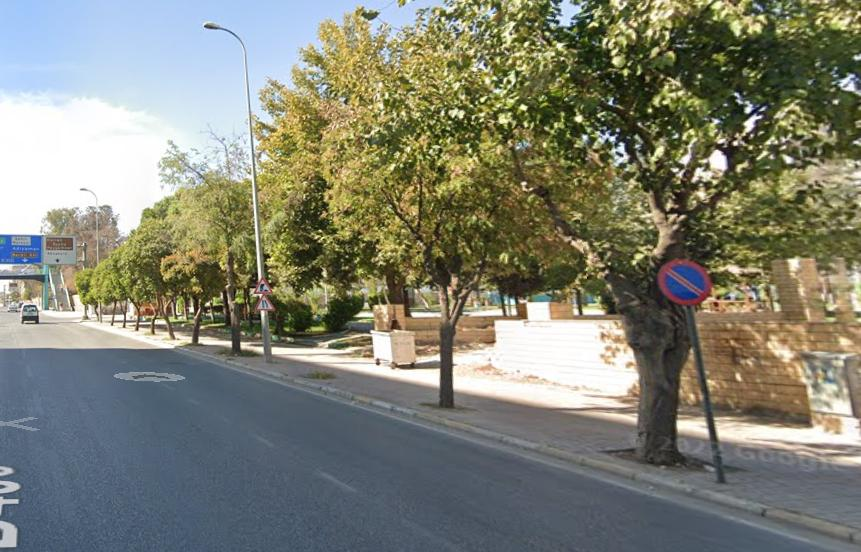nopark: (663, 258, 710, 305)
